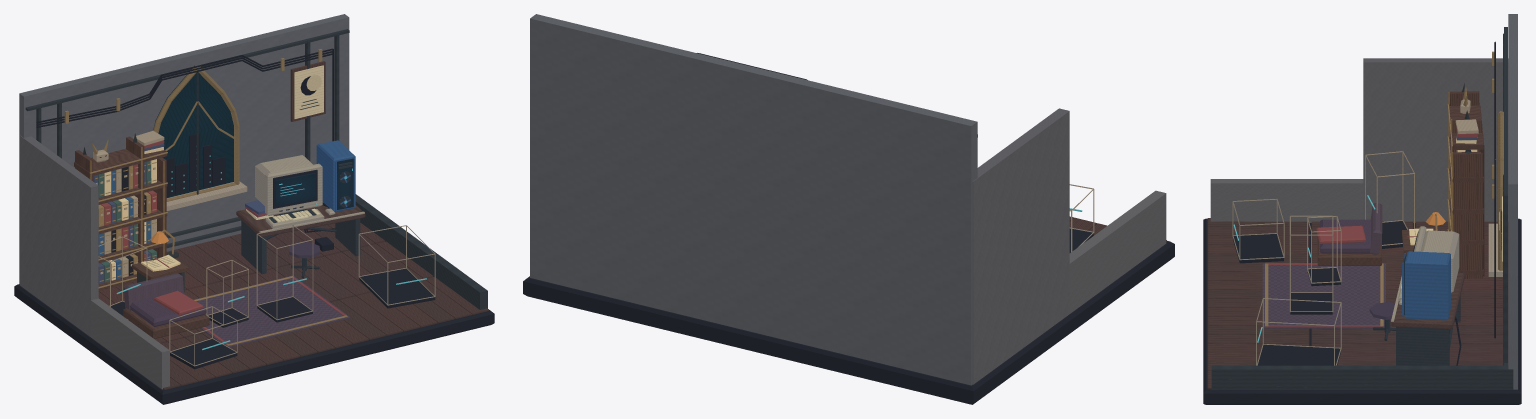
File: diorama.7bbf7b1ca912.glb
3 views of the same model, side by side, from view 1: azimuth 30°, elevation 25°; view 2: azimuth 150°, elevation 25°; view 3: azimuth 270°, elevation 25° (orthographic). The views are drawn at different scales.
Visible parts, largest first — view 1: room-shell, body__read, body__play, body__move, body__travel, body__collect, body__listen, body__watch; view 2: room-shell, body__collect; view 3: room-shell, body__play, body__read, body__move, body__collect, body__travel, body__watch, body__listen.
Boxes of the visible parts, x1,y1,x2,y2 form: room-shell: [14, 14, 494, 404]; body__read: [74, 130, 189, 292]; body__play: [236, 140, 365, 278]; body__move: [358, 225, 435, 308]; body__travel: [256, 225, 313, 322]; body__collect: [169, 306, 237, 369]; body__listen: [206, 260, 248, 327]; body__watch: [98, 236, 147, 319]; room-shell: [523, 14, 1174, 404]; body__collect: [1069, 184, 1094, 252]; room-shell: [1203, 14, 1521, 404]; body__play: [1369, 226, 1464, 365]; body__read: [1402, 83, 1484, 278]; body__move: [1256, 298, 1341, 365]; body__collect: [1232, 199, 1284, 263]; body__travel: [1289, 215, 1333, 314]; body__watch: [1365, 151, 1414, 248]; body__listen: [1307, 216, 1341, 286].
Size of the model in its own units: 9.7 by 5.72 by 7.5.
Materials: 1 (1 with a texture image).
